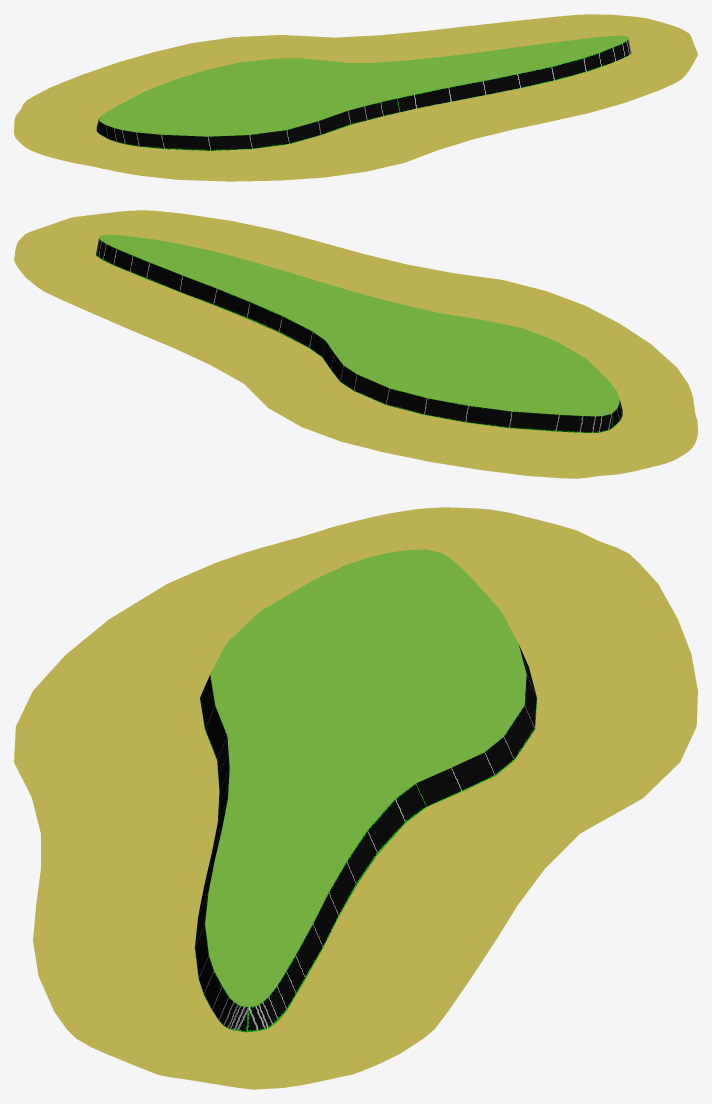
File: isle_02.fbx
3 views of the same model, one above another, from view 1: azimuth 30°, elevation 25°; view 2: azimuth 150°, elevation 25°; view 3: azimuth 270°, elevation 25° (orthographic). The views are drawn at different scales.
Visible parts, largest first — view 1: isle_02; view 2: isle_02; view 3: isle_02.
Boxes of the visible parts, x1,y1,x2,y2 form: isle_02: (14, 14, 697, 181); isle_02: (14, 210, 697, 478); isle_02: (14, 507, 697, 1089).
Bounding box in the file's own units: 522 × 10 × 259.
1 material, 1 textured.
